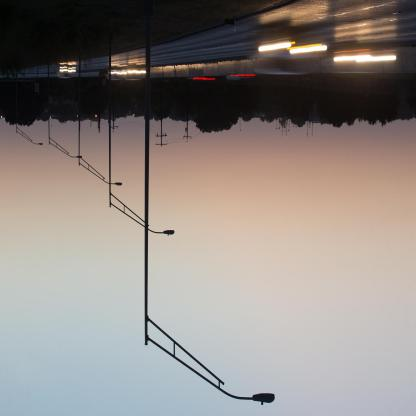Streetlights 1: (138, 2, 281, 410), (106, 91, 175, 242)
